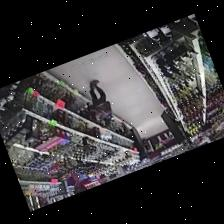person: (89, 79, 110, 126)
